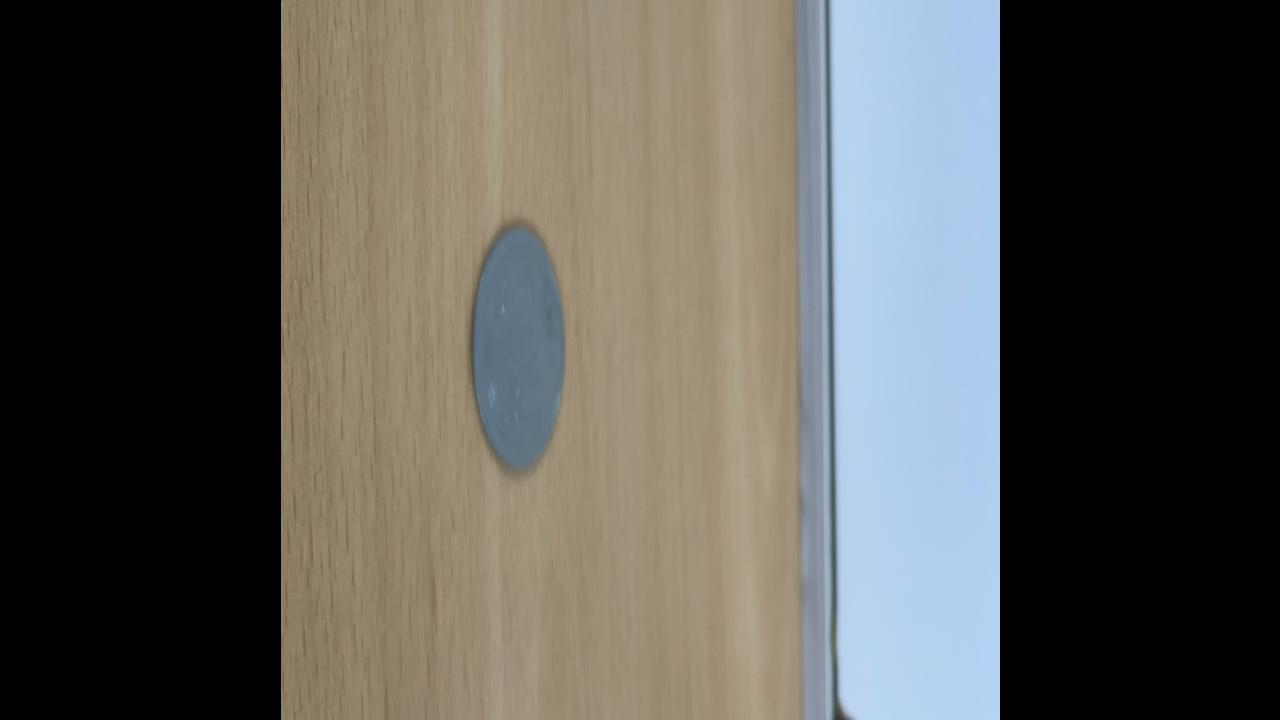coin: (470, 222, 566, 476)
